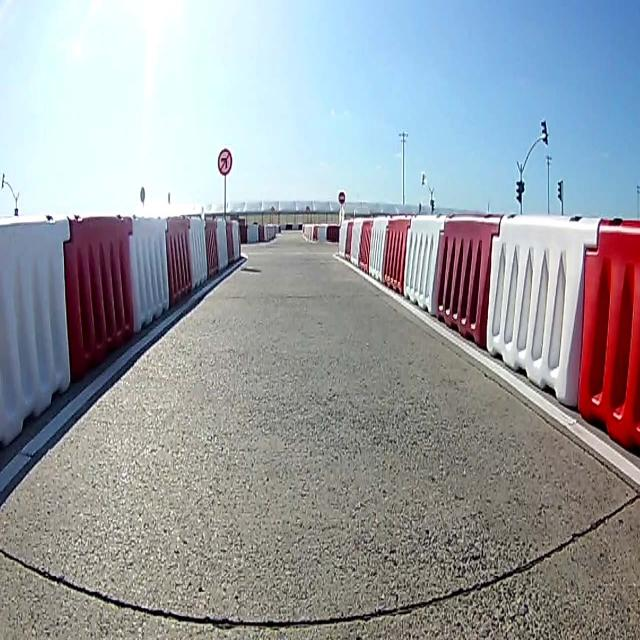girisyok: (339, 190, 345, 203)
soladonulmez: (218, 147, 230, 174)
